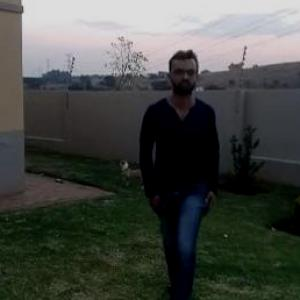follow: (134, 48, 216, 299)
